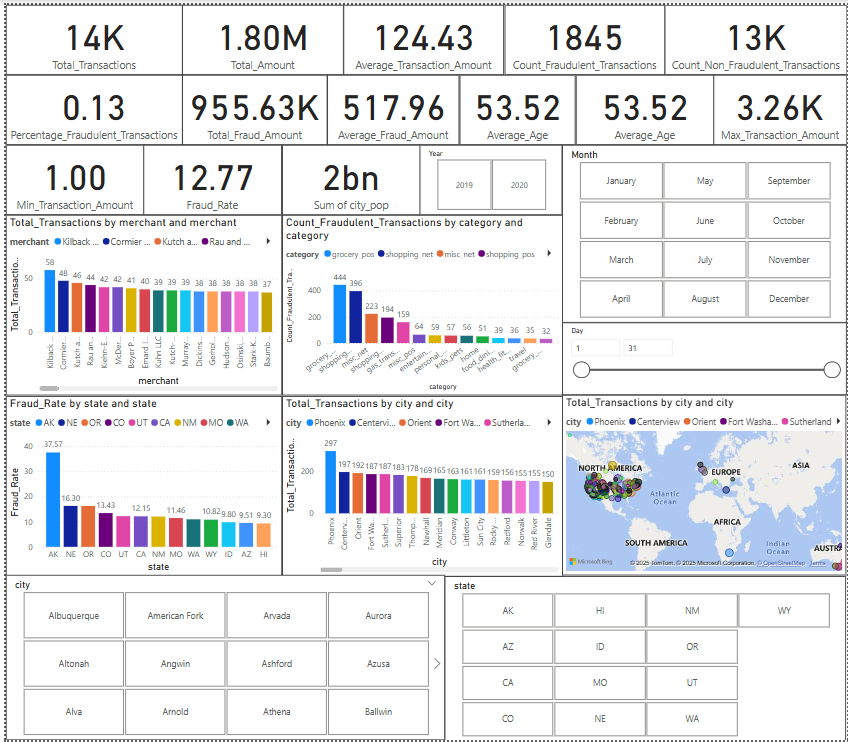

What the dashboard file says about the page in this screenshot:
{"tool":"powerbi","page":{"name":"Page 1","canvas":[1280,1120],"ordinal":0},"visuals":[{"type":"card","fields":{"Values":["fraud_data.Total_Transactions"]},"box":[0,0,268.7,106.8],"z":0},{"type":"card","fields":{"Values":["fraud_data.Total_Amount"]},"box":[268.7,0,245.6,106.8],"z":1000},{"type":"card","fields":{"Values":["fraud_data.Average_Transaction_Amount"]},"box":[514.4,0,243.8,106.8],"z":2000},{"type":"card","fields":{"Values":["fraud_data.Count_Fraudulent_Transactions"]},"box":[758.2,0,243.8,106.8],"z":3000},{"type":"card","fields":{"Values":["fraud_data.Count_Non_Fraudulent_Transactions"]},"box":[1002,0,277.6,106.8],"z":4000},{"type":"card","fields":{"Values":["fraud_data.Percentage_Fraudulent_Transactions"]},"box":[0,106.8,268.7,106.8],"z":5000},{"type":"card","fields":{"Values":["fraud_data.Total_Fraud_Amount"]},"box":[268.7,106.8,220.7,106.8],"z":6000},{"type":"card","fields":{"Values":["fraud_data.Average_Fraud_Amount"]},"box":[489.4,106.8,201.1,106.8],"z":7000},{"type":"card","fields":{"Values":["fraud_data.Average_Age"]},"box":[690.6,106.8,176.2,106.8],"z":8000},{"type":"card","fields":{"Values":["fraud_data.Average_Age"]},"box":[866.8,106.8,210,106.8],"z":9000},{"type":"card","fields":{"Values":["fraud_data.Max_Transaction_Amount"]},"box":[1076.8,106.8,202.9,106.8],"z":10000},{"type":"card","fields":{"Values":["fraud_data.Min_Transaction_Amount"]},"box":[0,213.6,210,106.8],"z":11000},{"type":"columnChart","fields":{"Category":["fraud_data.category"],"Y":["fraud_data.Count_Fraudulent_Transactions"],"Series":["fraud_data.category"]},"box":[420,320.4,427.1,274.1],"z":12000},{"type":"columnChart","fields":{"Category":["fraud_data.merchant"],"Y":["fraud_data.Total_Transactions"],"Series":["fraud_data.merchant"]},"box":[0,320.4,420,274.1],"z":13000},{"type":"columnChart","fields":{"Y":["fraud_data.Total_Transactions"],"Category":["fraud_data.city"],"Series":["fraud_data.city"]},"box":[420,594.4,427.1,274.1],"z":14000},{"type":"card","fields":{"Values":["fraud_data.Fraud_Rate"]},"box":[210,213.6,210,106.8],"z":15000},{"type":"columnChart","fields":{"Y":["fraud_data.Fraud_Rate"],"Category":["fraud_data.state"],"Series":["fraud_data.state"]},"box":[0,594.4,420,274.1],"z":16000},{"type":"card","fields":{"Values":["Sum(fraud_data.city_pop)"]},"box":[420,213.6,210,106.8],"z":17000},{"type":"slicer","fields":{"Values":["fraud_data.trans_date_trans_time.Variation.Date Hierarchy.Year"]},"box":[630,213.6,217.1,106.8],"z":18000},{"type":"slicer","fields":{"Values":["fraud_data.dob.Variation.Date Hierarchy.Month"]},"box":[847.2,213.6,432.5,270.5],"z":19000},{"type":"slicer","fields":{"Values":["fraud_data.dob.Variation.Date Hierarchy.Day"]},"box":[847.2,484.1,432.5,110.3],"z":20000},{"type":"map","fields":{"Category":["fraud_data.city"],"Size":["fraud_data.Total_Transactions"],"Series":["fraud_data.city"]},"box":[847,594,432,274],"z":21000},{"type":"slicer","fields":{"Values":["fraud_data.city"]},"box":[0,867.4,667.7,251.1],"z":22000},{"type":"slicer","fields":{"Values":["fraud_data.state"]},"box":[667.7,869.3,610.6,251.1],"z":23000}]}

Visuals, with their boxes in screenshot pixels (x1, y1, x2, y2), scaled from the page's 1280x1120 canvas onto the 848x742 screenshot:
card - fraud_data.Total_Transactions: region(0, 0, 178, 71)
card - fraud_data.Total_Amount: region(178, 0, 341, 71)
card - fraud_data.Average_Transaction_Amount: region(341, 0, 502, 71)
card - fraud_data.Count_Fraudulent_Transactions: region(502, 0, 664, 71)
card - fraud_data.Count_Non_Fraudulent_Transactions: region(664, 0, 847, 71)
card - fraud_data.Percentage_Fraudulent_Transactions: region(0, 71, 178, 142)
card - fraud_data.Total_Fraud_Amount: region(178, 71, 324, 142)
card - fraud_data.Average_Fraud_Amount: region(324, 71, 457, 142)
card - fraud_data.Average_Age: region(458, 71, 574, 142)
card - fraud_data.Average_Age: region(574, 71, 713, 142)
card - fraud_data.Max_Transaction_Amount: region(713, 71, 847, 142)
card - fraud_data.Min_Transaction_Amount: region(0, 142, 139, 212)
columnChart - fraud_data.category x fraud_data.Count_Fraudulent_Transactions: region(278, 212, 561, 394)
columnChart - fraud_data.merchant x fraud_data.Total_Transactions: region(0, 212, 278, 394)
columnChart - fraud_data.Total_Transactions x fraud_data.city: region(278, 394, 561, 575)
card - fraud_data.Fraud_Rate: region(139, 142, 278, 212)
columnChart - fraud_data.Fraud_Rate x fraud_data.state: region(0, 394, 278, 575)
card - Sum(fraud_data.city_pop): region(278, 142, 417, 212)
slicer - fraud_data.trans_date_trans_time.Variation.Date Hierarchy.Year: region(417, 142, 561, 212)
slicer - fraud_data.dob.Variation.Date Hierarchy.Month: region(561, 142, 847, 321)
slicer - fraud_data.dob.Variation.Date Hierarchy.Day: region(561, 321, 847, 394)
map - fraud_data.city x fraud_data.Total_Transactions: region(561, 394, 847, 575)
slicer - fraud_data.city: region(0, 575, 442, 741)
slicer - fraud_data.state: region(442, 576, 847, 741)
